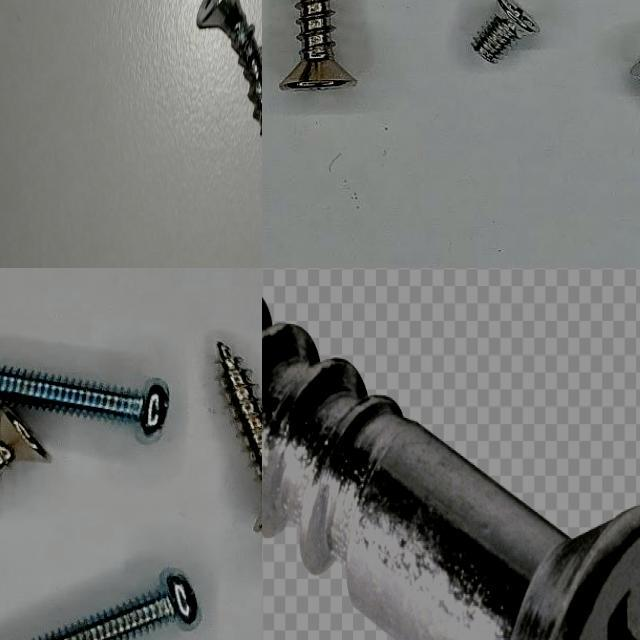Screw: (262, 300, 640, 640), (0, 364, 169, 435), (33, 570, 198, 640), (196, 0, 262, 135), (278, 0, 356, 90), (219, 342, 262, 480), (470, 0, 539, 64), (0, 404, 49, 471)
